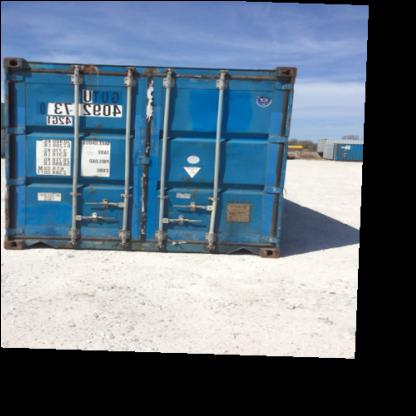Damage: (128, 172, 158, 233), (67, 213, 122, 245), (134, 62, 158, 128), (61, 61, 100, 95), (164, 224, 197, 249)
